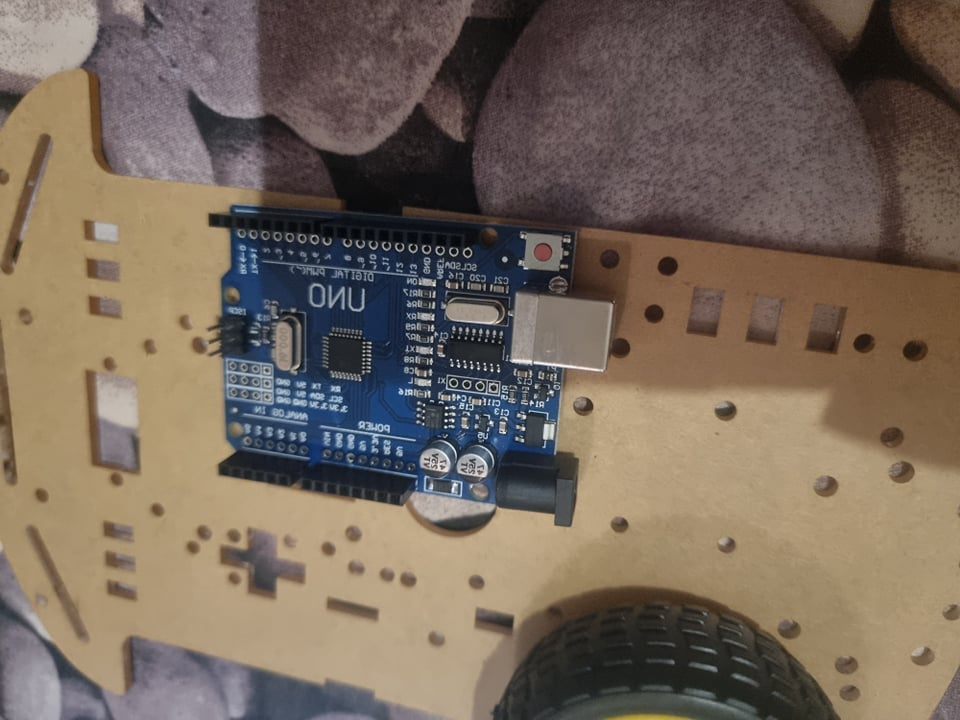UNO R3: (218, 203, 616, 529)
